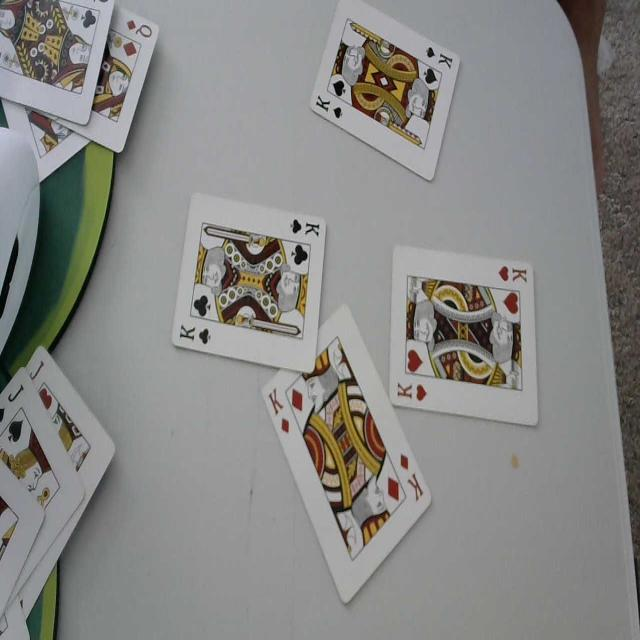KC: (178, 320, 213, 348), (290, 218, 321, 240)
KD: (398, 450, 426, 507), (267, 388, 292, 439)
KH: (498, 261, 530, 285), (396, 379, 428, 402)
KS: (315, 91, 346, 125), (426, 44, 456, 72)
QD: (126, 16, 152, 40)
